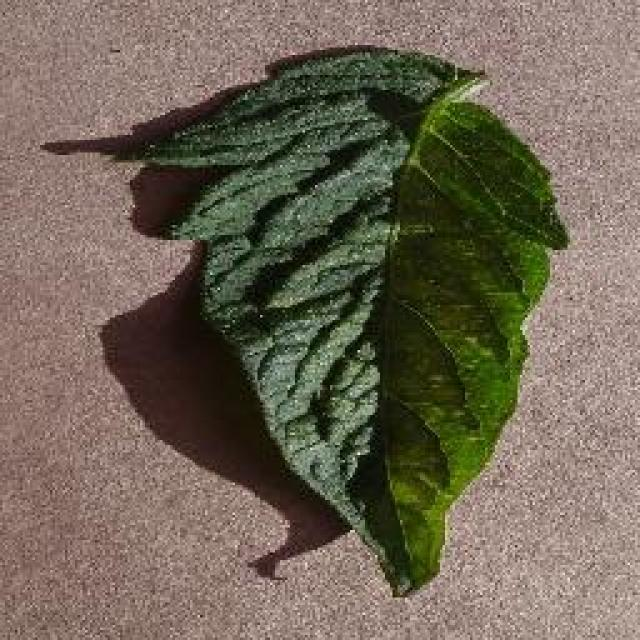Tomato___Spider_mites Two-spotted_spider_mite: (145, 48, 568, 595)
